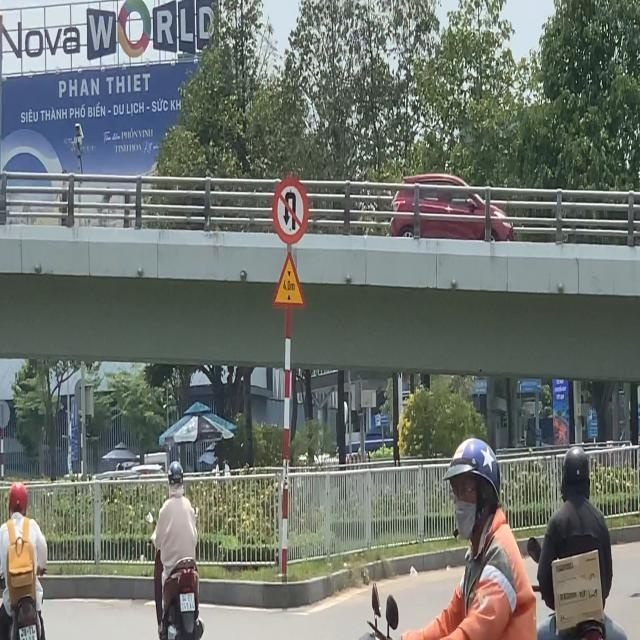bien_cam: (272, 178, 310, 246), (269, 248, 307, 312)
